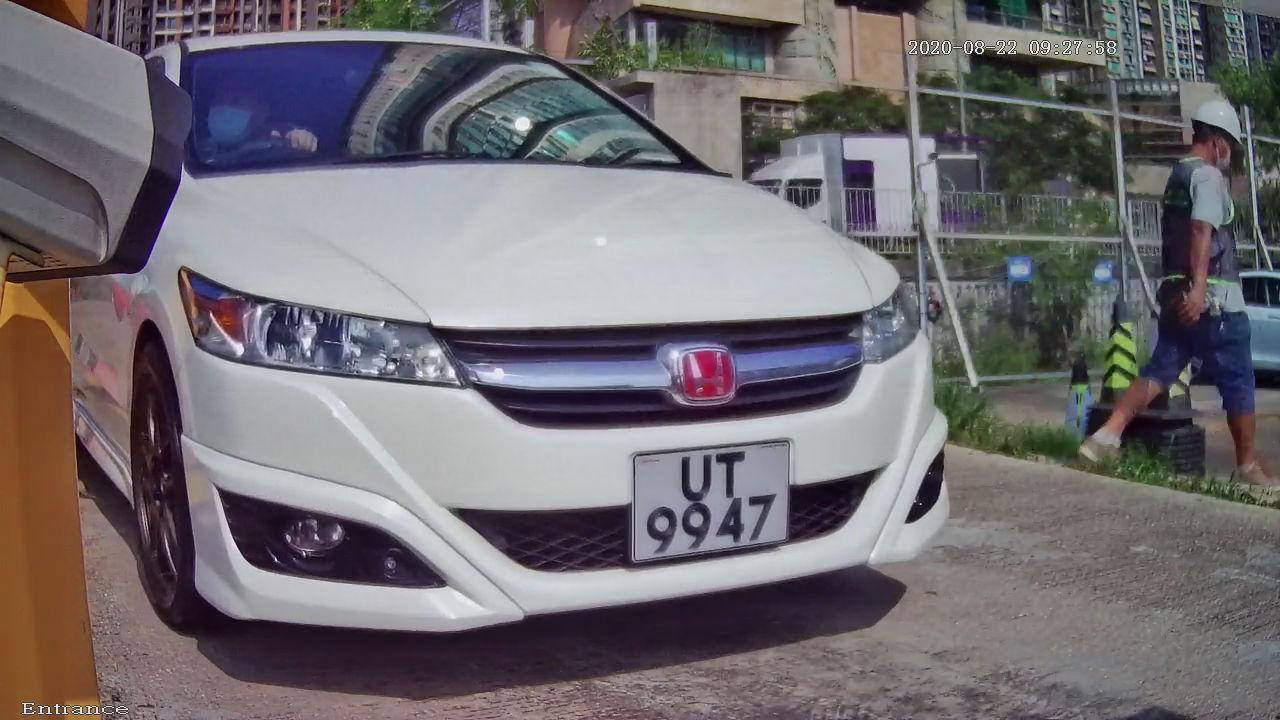Car: (35, 1, 1018, 698)
License Plate: (590, 430, 808, 603)
